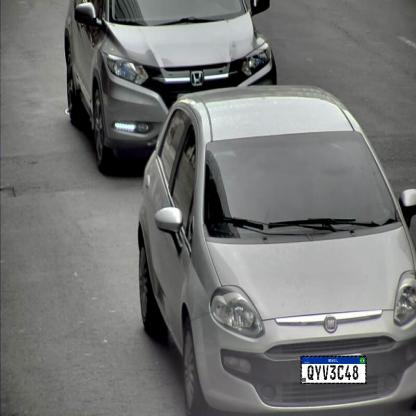PlacaM: (300, 356, 366, 384)
